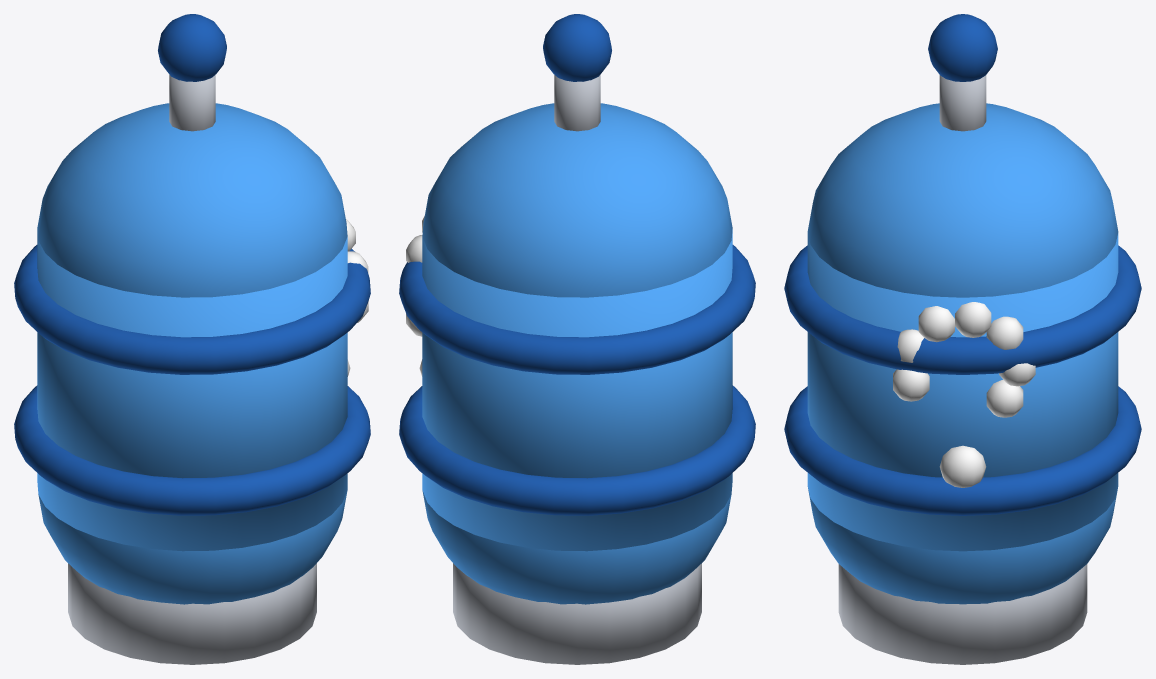
Rendered from SM_Capsule_Rare.fbx.
3 renders of one model, left to right at view 1: azimuth 30°, elevation 25°; view 2: azimuth 150°, elevation 25°; view 3: azimuth 270°, elevation 25°, orthographic.
Parts seen in each view (by area): view 1: SM_Capsule_Rare; view 2: SM_Capsule_Rare; view 3: SM_Capsule_Rare.
Part boxes in pixels (x1=…): SM_Capsule_Rare: x1=14, y1=14, x2=370, y2=664; SM_Capsule_Rare: x1=399, y1=14, x2=755, y2=664; SM_Capsule_Rare: x1=784, y1=14, x2=1141, y2=664.
Size of what is drawn, in the model's own units: 0.46 by 0.845 by 0.46.
1 material, 1 textured.
